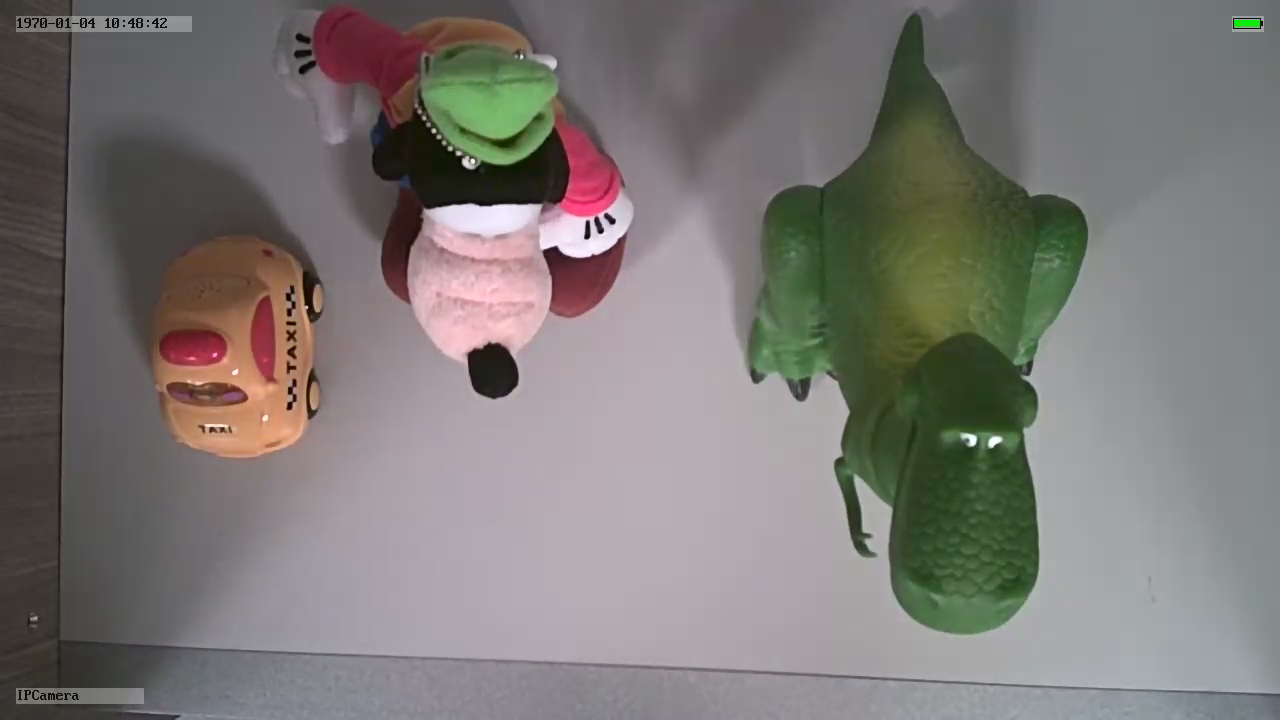goofy: (276, 13, 638, 404)
